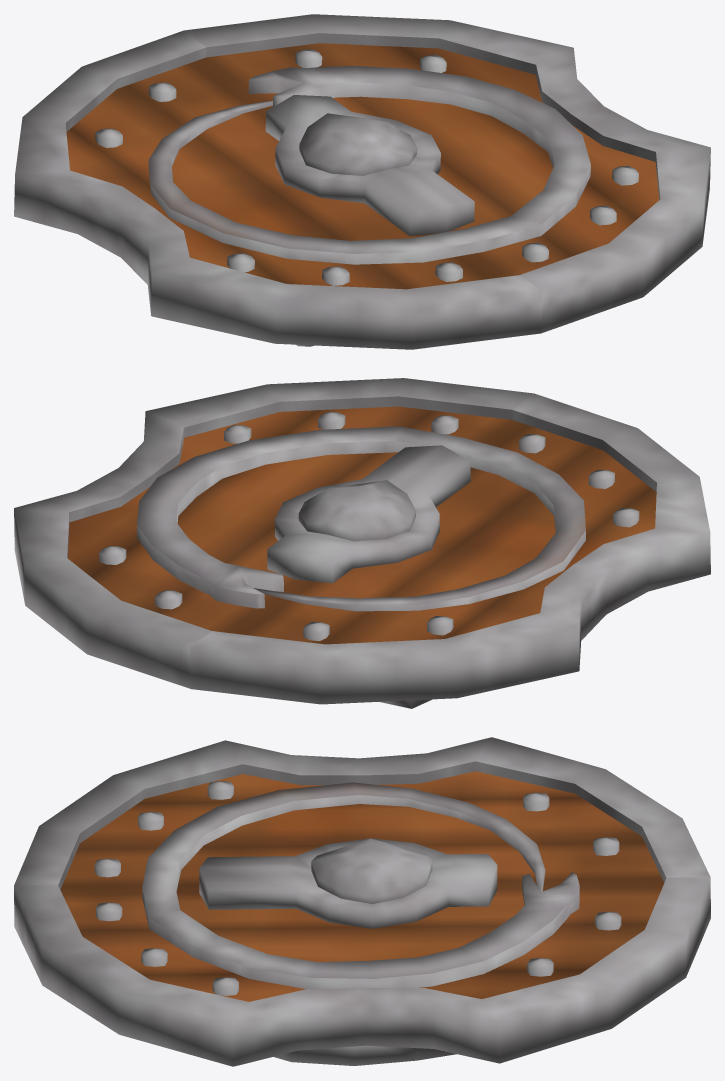
File: ShieldSilver.fbx
3 views of the same model, one above another, from view 1: azimuth 30°, elevation 25°; view 2: azimuth 150°, elevation 25°; view 3: azimuth 270°, elevation 25° (orthographic).
Parts seen in each view (by area): view 1: model; view 2: model; view 3: model.
Boxes of the visible parts, x1,y1,x2,y2 form: model: [14, 14, 710, 349]; model: [14, 378, 710, 708]; model: [14, 737, 710, 1066].
Bounding box in the file's own units: 0.7031 × 0.2124 × 0.7567.
Materials: 1 (1 with a texture image).
